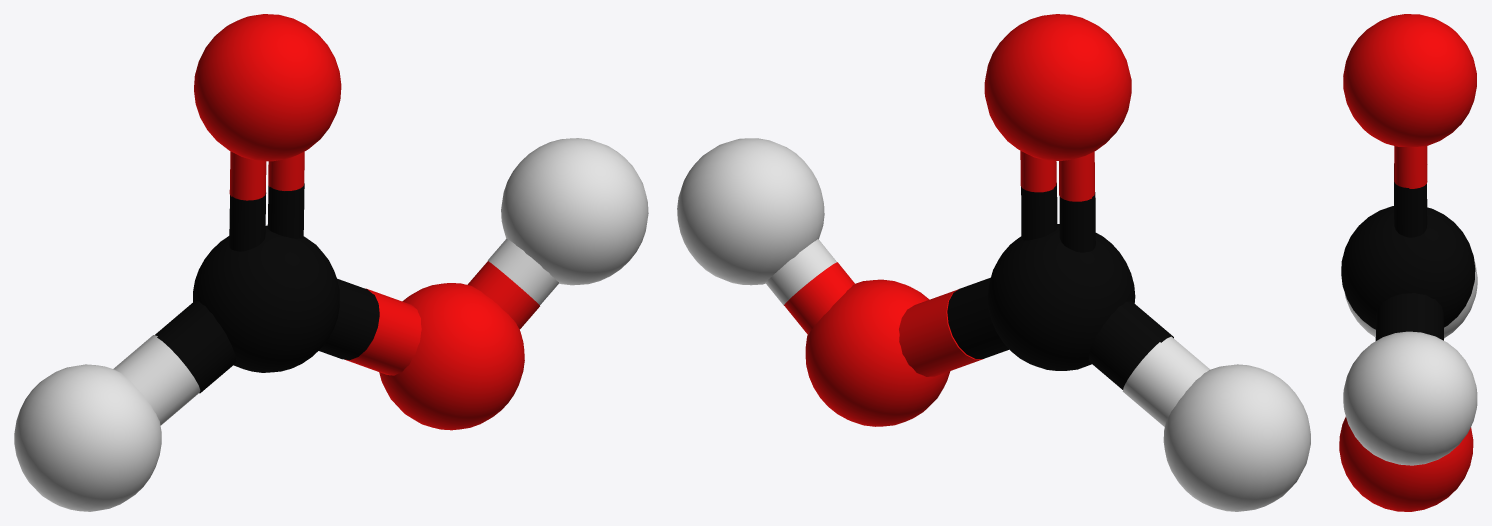
Rendered from uploads_files_2040125_formicAcid.FBX.
3 views of the same model, side by side, from view 1: azimuth 30°, elevation 25°; view 2: azimuth 150°, elevation 25°; view 3: azimuth 270°, elevation 25° (orthographic). The views are drawn at different scales.
Visible parts, largest first — view 1: Sphere072, Sphere075, Sphere074, Sphere071, Sphere073, Cylinder166, Cylinder167, Cylinder164, Cylinder165, Cylinder160, Cylinder159, Cylinder158 (+3 smaller); view 2: Sphere072, Sphere075, Sphere074, Sphere071, Sphere073, Cylinder166, Cylinder164, Cylinder167, Cylinder165, Cylinder159, Cylinder160, Cylinder158 (+3 smaller); view 3: Sphere074, Sphere072, Sphere071, Sphere073, Cylinder165, Cylinder161, Cylinder162, Sphere075.
Boxes of the visible parts, x1,y1,x2,y2 form: Sphere072: (194, 14, 341, 161); Sphere075: (14, 364, 161, 511); Sphere074: (501, 138, 648, 285); Sphere071: (193, 225, 339, 372); Sphere073: (379, 283, 524, 430); Cylinder166: (113, 335, 200, 425); Cylinder167: (155, 301, 236, 393); Cylinder164: (345, 288, 421, 375); Cylinder165: (319, 278, 379, 360); Cylinder160: (487, 238, 558, 304); Cylinder159: (467, 261, 539, 329); Cylinder158: (229, 193, 266, 251); Sphere072: (984, 14, 1131, 160); Sphere075: (1163, 364, 1310, 511); Sphere074: (677, 138, 824, 285); Sphere071: (987, 224, 1135, 370); Sphere073: (805, 279, 950, 426); Cylinder166: (1122, 336, 1209, 426); Cylinder164: (899, 289, 982, 376); Cylinder167: (1088, 301, 1173, 389); Cylinder165: (947, 277, 1008, 358); Cylinder159: (784, 262, 854, 334); Cylinder160: (765, 239, 836, 305); Cylinder158: (1059, 192, 1095, 252); Sphere074: (1343, 331, 1477, 465); Sphere072: (1343, 14, 1476, 147); Sphere071: (1341, 206, 1475, 329); Sphere073: (1339, 416, 1473, 511); Cylinder165: (1375, 293, 1443, 340); Cylinder161: (1394, 180, 1427, 237); Cylinder162: (1394, 146, 1427, 188); Sphere075: (1344, 261, 1477, 338).
Bounding box in the file's own units: 59.93 × 41.49 × 12.85.
